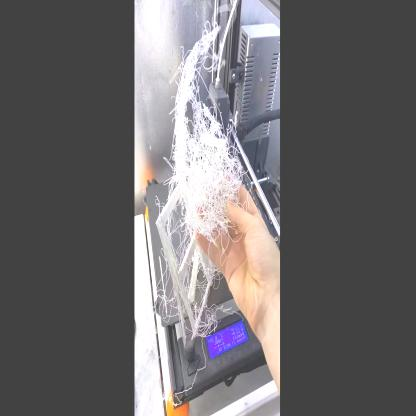fail: (179, 99, 237, 239), (166, 25, 216, 97), (184, 266, 222, 338), (150, 283, 178, 327)
